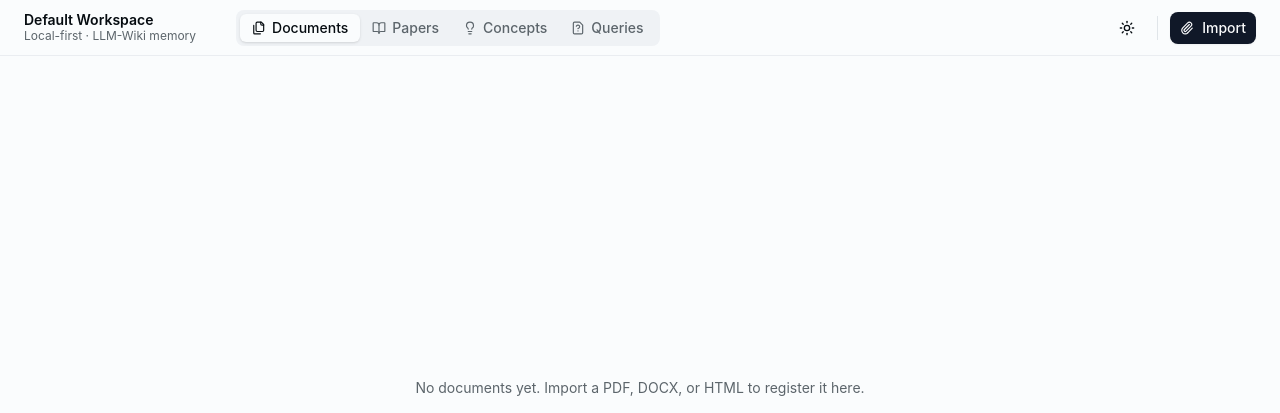
Workspace tabs › switches the content area when the Queries header tab is clicked
Expected: the text "No documents yet" is shown, [415,379,865,396]
What coordinates should you click on to do the following:
click the tab "Queries"
I would click on:
 (608, 28)
Its box is [559,14,656,42].
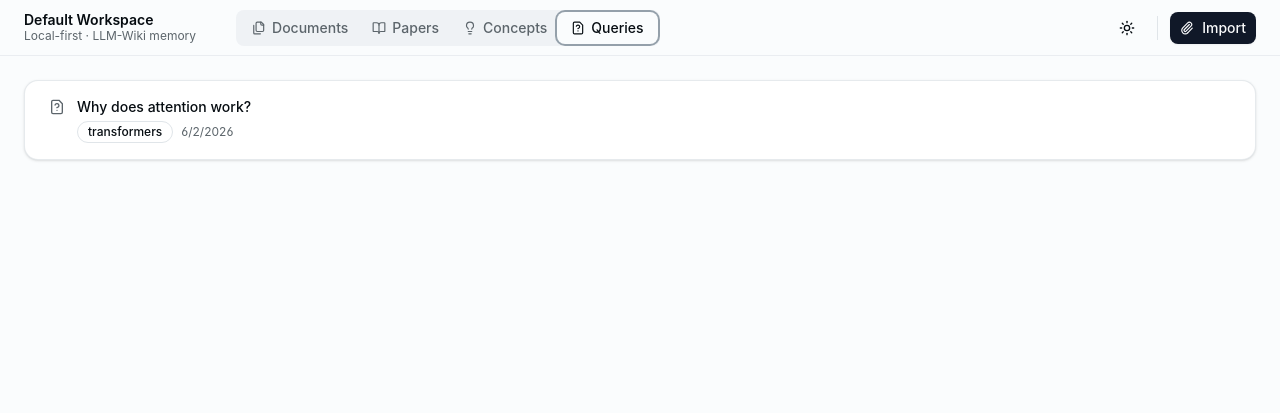
Now the text "Why does attention work?" is shown, box [77,98,251,115]
